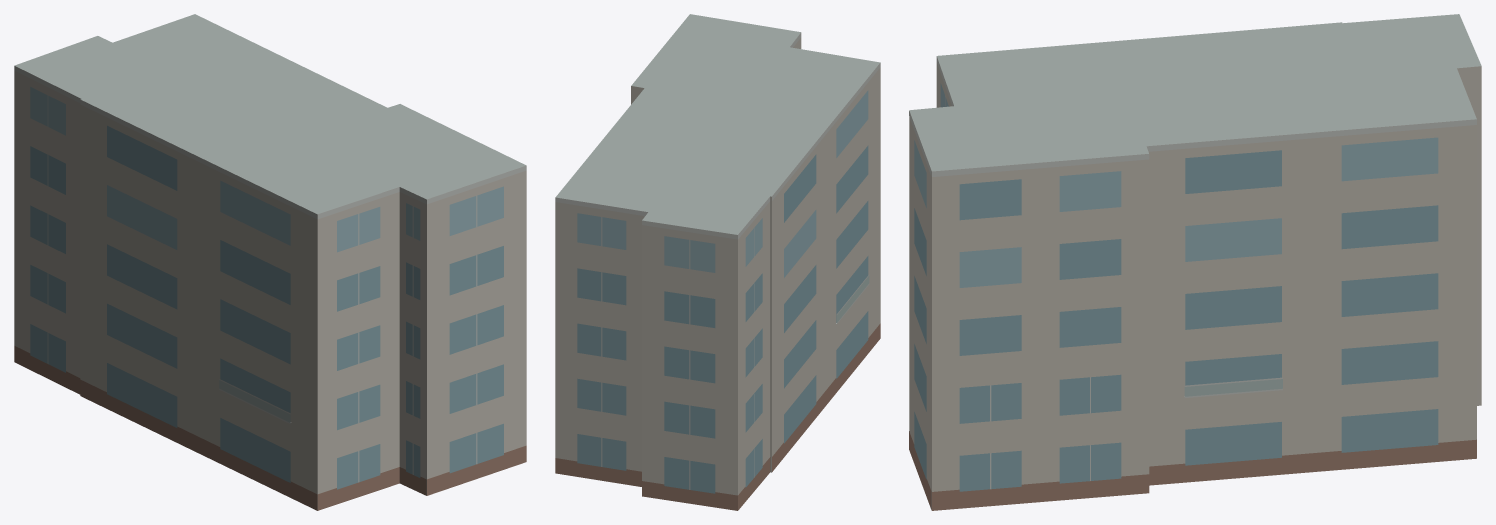
File: survey-upis-33037893.glb
3 views of the same model, side by side, from view 1: azimuth 30°, elevation 25°; view 2: azimuth 150°, elevation 25°; view 3: azimuth 270°, elevation 25° (orthographic). The views are drawn at different scales.
Visible parts, largest first — view 1: survey-upis-33037893.tmp; view 2: survey-upis-33037893.tmp; view 3: survey-upis-33037893.tmp.
Part boxes in pixels (x1,y1,x2,y2): survey-upis-33037893.tmp: [14, 14, 526, 510]; survey-upis-33037893.tmp: [555, 14, 880, 510]; survey-upis-33037893.tmp: [909, 14, 1481, 510].
Size of the model in its own units: 14.54 by 14.6 by 22.33.
